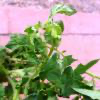Tomato leaf yellow virus: (23, 21, 42, 54), (45, 22, 65, 49), (59, 52, 80, 76), (46, 3, 79, 18), (4, 35, 30, 53)
